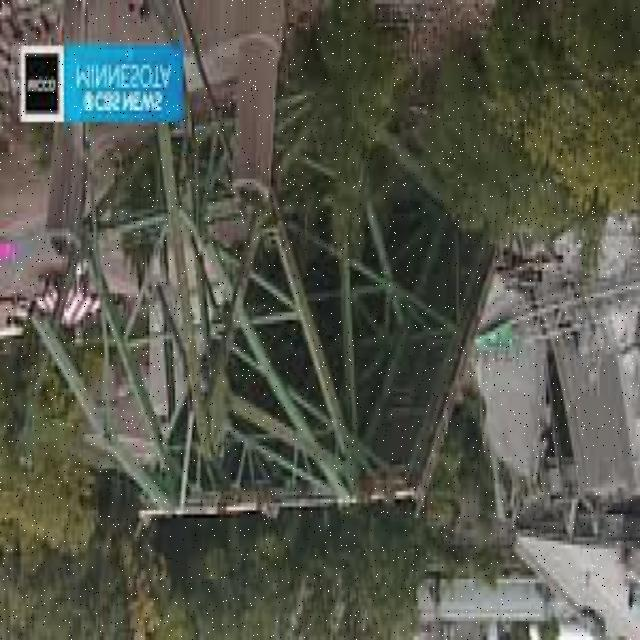bridge collapse: (20, 81, 640, 570)
